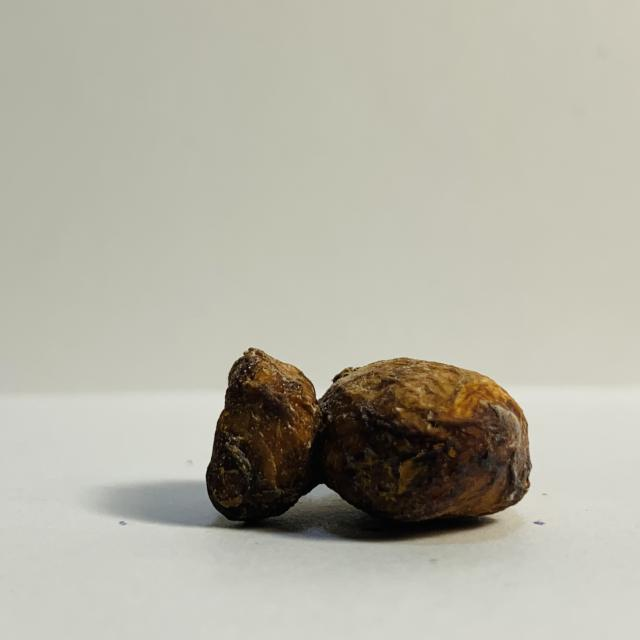Agglomerated_cocoabeans: (97, 320, 622, 571)
